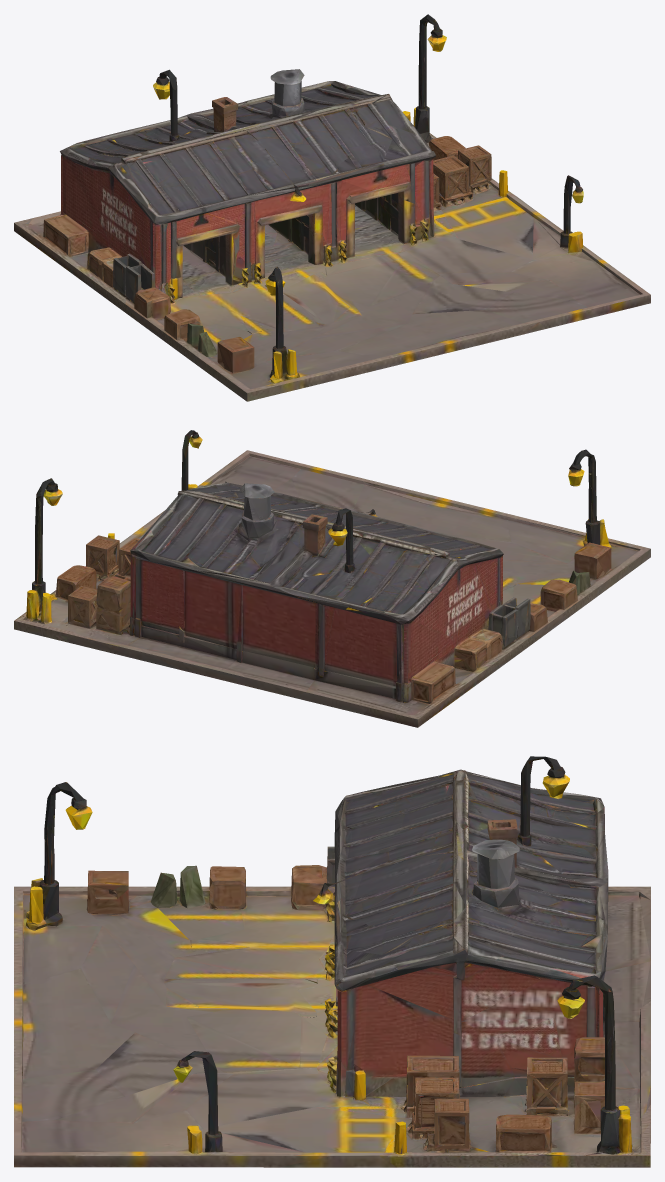
The model's file is truck_depot_bottom_entrance_sw.glb.
The picture shows the model from 3 angles, top to bottom: view 1: azimuth 30°, elevation 25°; view 2: azimuth 150°, elevation 25°; view 3: azimuth 270°, elevation 25°; orthographic projection. The views are drawn at different scales.
Visible parts, largest first — view 1: normalize; view 2: normalize; view 3: normalize.
Boxes of the visible parts, x1,y1,x2,y2 form: normalize: [14, 14, 650, 401]; normalize: [14, 430, 650, 727]; normalize: [14, 756, 650, 1167].
Size of the model in its own units: 1 by 0.3831 by 0.9999.
1 material, 1 textured.
